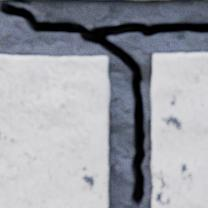brick: (0, 55, 109, 207), (151, 53, 207, 207)
crack: (0, 2, 207, 207)
